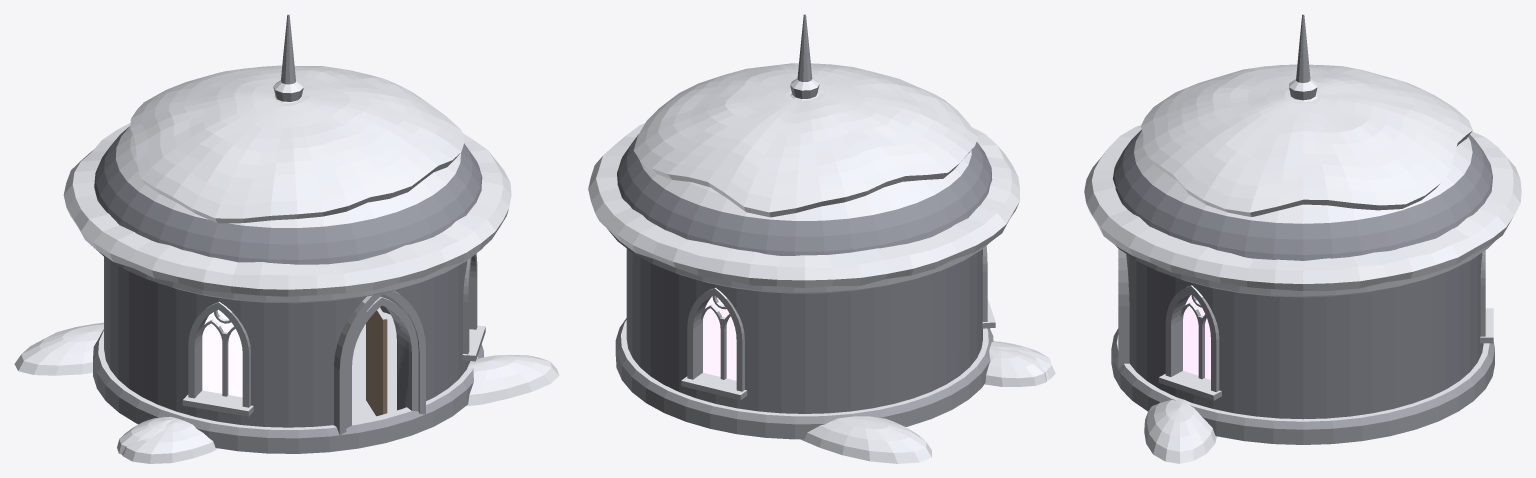
File: AR_Casinha_A.fbx
3 views of the same model, side by side, from view 1: azimuth 30°, elevation 25°; view 2: azimuth 150°, elevation 25°; view 3: azimuth 270°, elevation 25° (orthographic). The views are drawn at different scales.
Parts seen in each view (by area): view 1: AR_Casinha_A; view 2: AR_Casinha_A; view 3: AR_Casinha_A.
Boxes of the visible parts, box(x1,y1,x2,y2) form: AR_Casinha_A: box(14, 14, 559, 463); AR_Casinha_A: box(588, 14, 1055, 463); AR_Casinha_A: box(1084, 14, 1521, 463).
Size of the model in its own units: 12.49 by 10.3 by 11.63.
